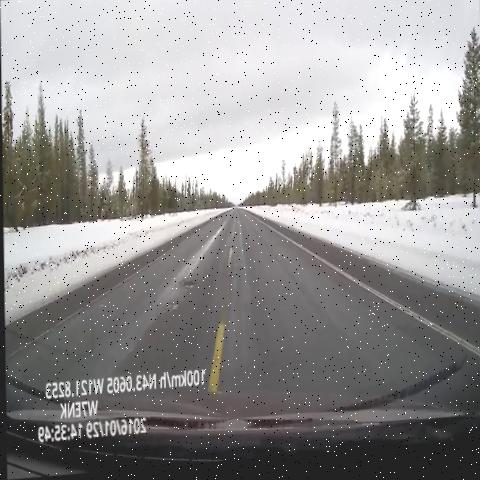pothole: (159, 265, 200, 328)
